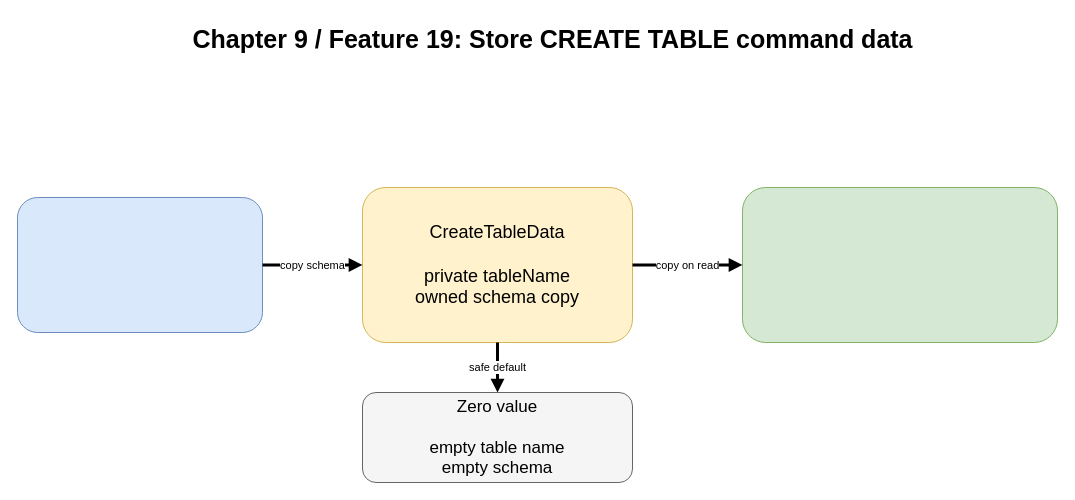
This 1075x500 diagram has some shape labels left out. The centre of each missing label's shape, as x and y in pixels:
Constructor input table name: student record.Schema: (x=139, y=264)
Read-only accessors TableName() Schema() → independent copy: (x=900, y=264)
